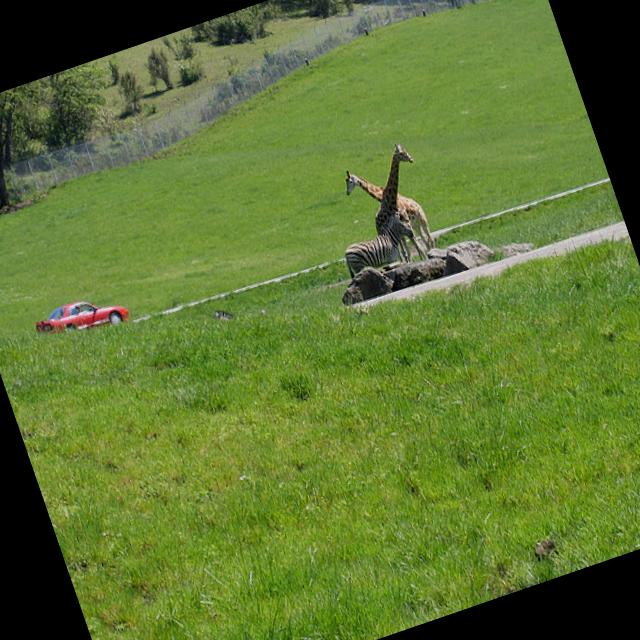Vehicle: (31, 286, 130, 348)
